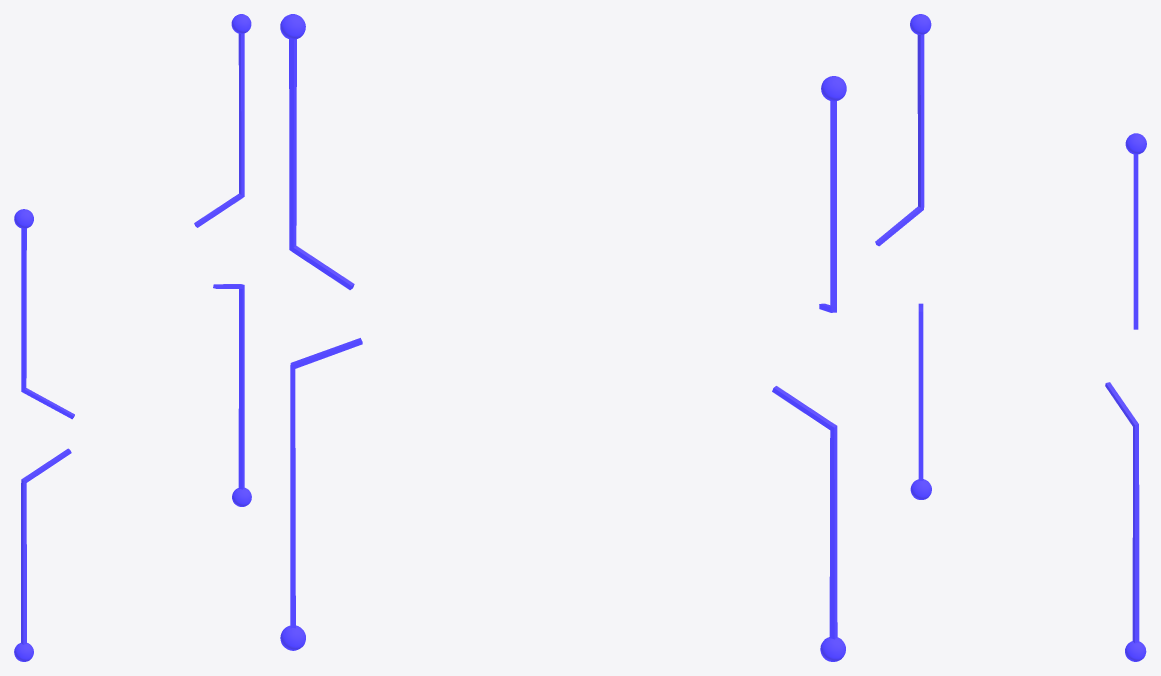
The model's file is SegnPortraitSocial4.gltf.
3 views of the same model, side by side, from view 1: azimuth 30°, elevation 25°; view 2: azimuth 150°, elevation 25°; view 3: azimuth 270°, elevation 25° (orthographic). The views are drawn at different scales.
Visible parts, largest first — view 1: ListnerModuli.010; view 2: ListnerModuli.010; view 3: ListnerModuli.010.
Boxes of the visible parts, x1,y1,x2,y2 form: ListnerModuli.010: [14, 14, 251, 661]; ListnerModuli.010: [280, 14, 846, 661]; ListnerModuli.010: [875, 14, 1146, 661].
Size of the model in its own units: 0.8176 by 1.15 by 0.5355.
